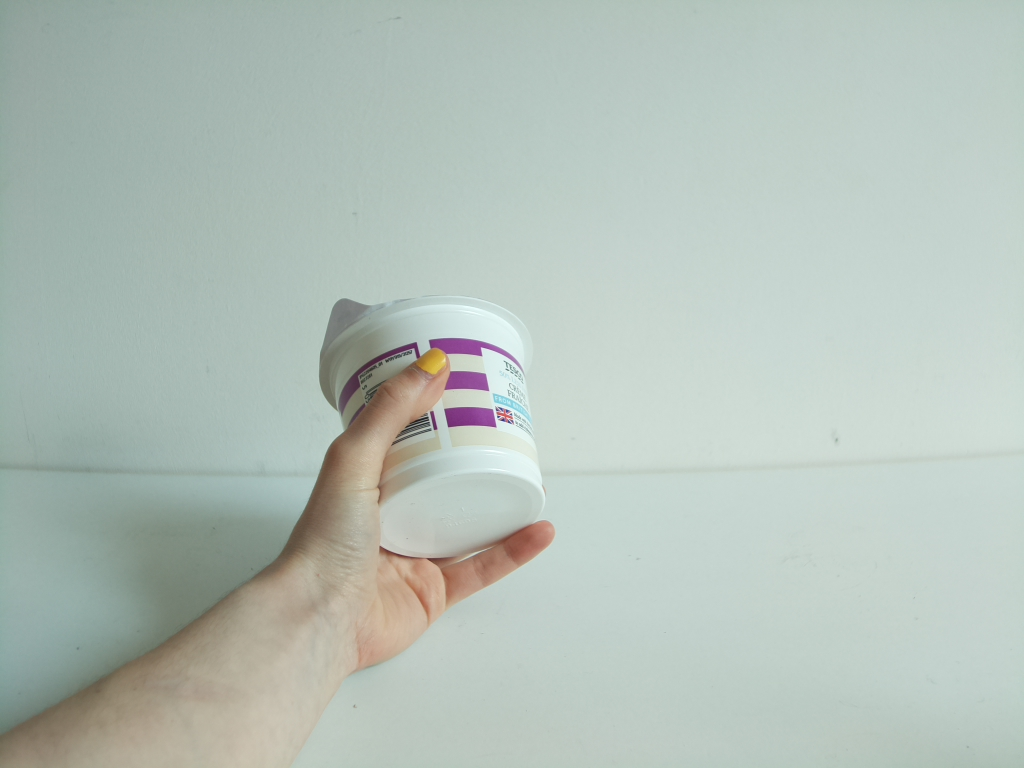cream: (308, 289, 552, 556)
